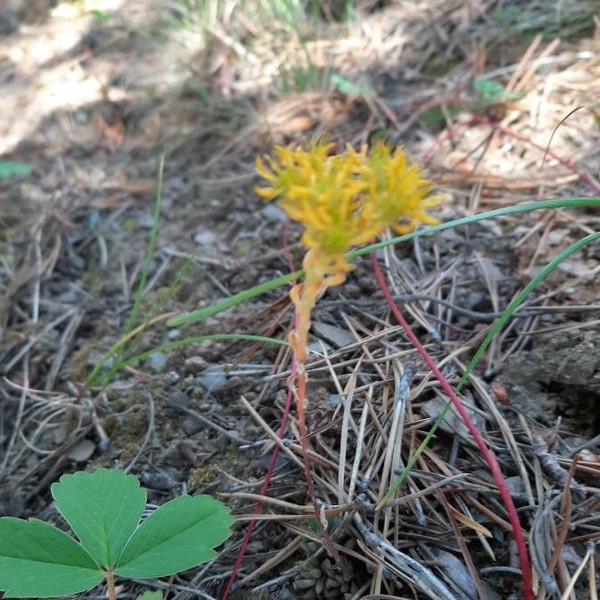obstacle: (253, 119, 448, 404), (2, 451, 239, 598)
